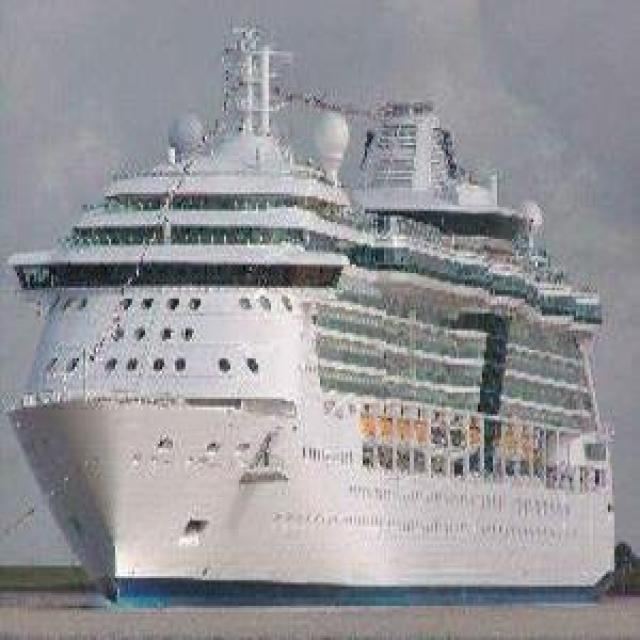passenger ship: (14, 27, 616, 603)
